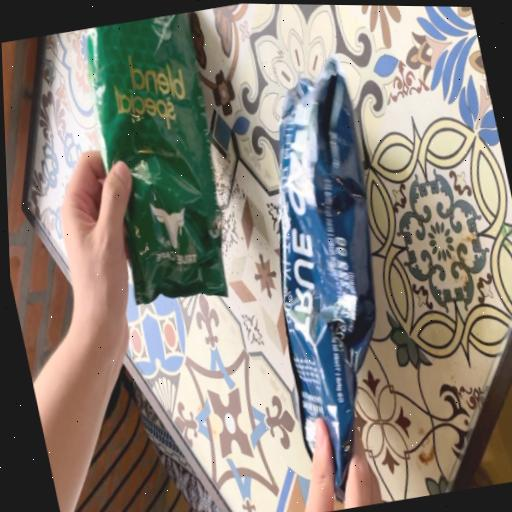cafe_hat: (277, 57, 376, 499)
cafe_xay: (85, 11, 226, 302)
